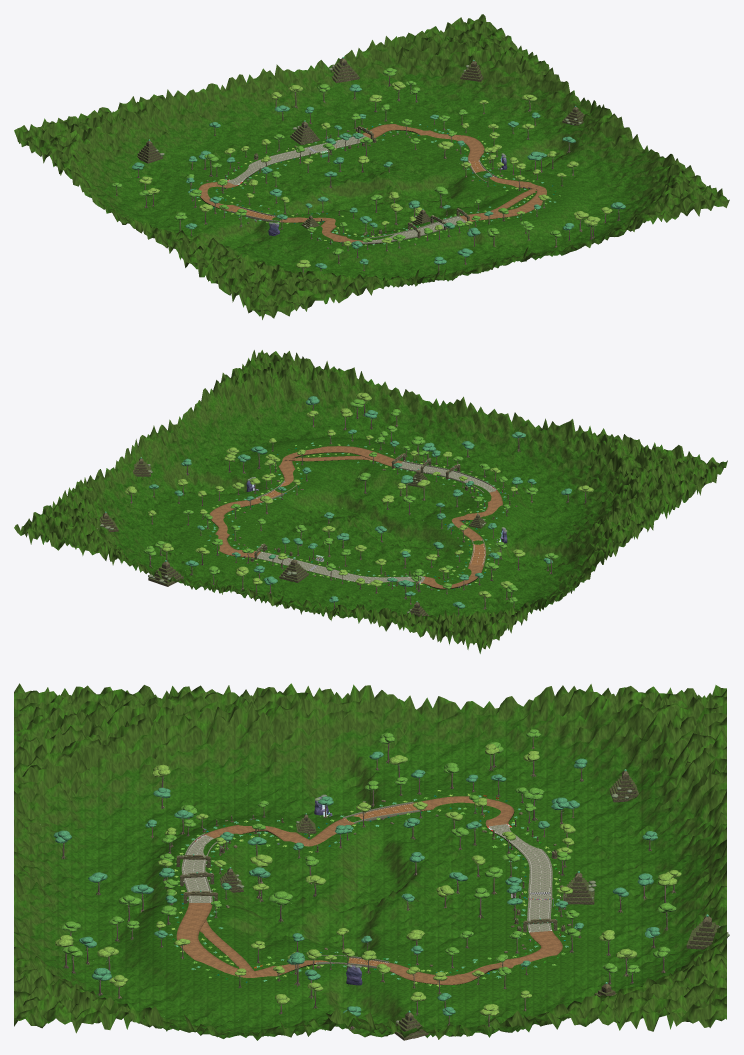
File: templo-esmeralda.glb
3 views of the same model, one above another, from view 1: azimuth 30°, elevation 25°; view 2: azimuth 150°, elevation 25°; view 3: azimuth 270°, elevation 25° (orthographic). The views are drawn at different scales.
Visible parts, largest first — view 1: terrain4, terrain2, terrain1, terrain0, terrain3, terrain11, terrain15, terrain23, terrain24, terrain17, terrain14, terrain27 (+38 smaller); view 2: terrain29, terrain28, terrain25, terrain24, terrain21, terrain17, terrain18, terrain14, terrain23, terrain19, terrain15, terrain26 (+39 smaller); view 3: terrain18, terrain12, terrain6, terrain25, terrain0, terrain24, terrain1, terrain2, terrain14, terrain22, terrain3, terrain15 (+50 smaller).
Part boxes in pixels (x1=…): terrain4: x1=344, y1=31, x2=470, y2=114; terrain2: x1=179, y1=74, x2=297, y2=156; terrain1: x1=97, y1=89, x2=224, y2=174; terrain0: x1=14, y1=110, x2=142, y2=177; terrain3: x1=260, y1=58, x2=388, y2=132; terrain11: x1=472, y1=52, x2=574, y2=128; terrain15: x1=356, y1=148, x2=482, y2=201; terrain23: x1=566, y1=126, x2=670, y2=198; terrain24: x1=203, y1=255, x2=326, y2=313; terrain17: x1=518, y1=95, x2=623, y2=163; terrain14: x1=273, y1=167, x2=401, y2=217; terrain27: x1=449, y1=211, x2=577, y2=266; terrain29: x1=203, y1=358, x2=307, y2=434; terrain28: x1=261, y1=373, x2=390, y2=446; terrain25: x1=507, y1=441, x2=635, y2=510; terrain24: x1=590, y1=451, x2=717, y2=514; terrain21: x1=297, y1=452, x2=421, y2=510; terrain17: x1=110, y1=425, x2=213, y2=503; terrain18: x1=541, y1=491, x2=670, y2=558; terrain14: x1=332, y1=505, x2=456, y2=564; terrain23: x1=156, y1=390, x2=258, y2=469; terrain19: x1=463, y1=488, x2=588, y2=556; terrain15: x1=249, y1=486, x2=377, y2=542; terrain26: x1=427, y1=433, x2=553, y2=489; terrain18: x1=183, y1=683, x2=319, y2=797; terrain12: x1=319, y1=684, x2=455, y2=800; terrain6: x1=455, y1=684, x2=591, y2=789; terrain25: x1=48, y1=740, x2=183, y2=847; terrain0: x1=591, y1=684, x2=726, y2=787; terrain24: x1=48, y1=685, x2=183, y2=782; terrain1: x1=591, y1=745, x2=726, y2=846; terrain2: x1=591, y1=803, x2=726, y2=905; terrain14: x1=319, y1=839, x2=455, y2=911; terrain22: x1=183, y1=949, x2=319, y2=1020; terrain3: x1=591, y1=862, x2=726, y2=962; terrain15: x1=319, y1=890, x2=455, y2=959.
Size of what is drawn, in the model's own units: 685 by 64.54 by 633.
28 materials, 12 textured.
